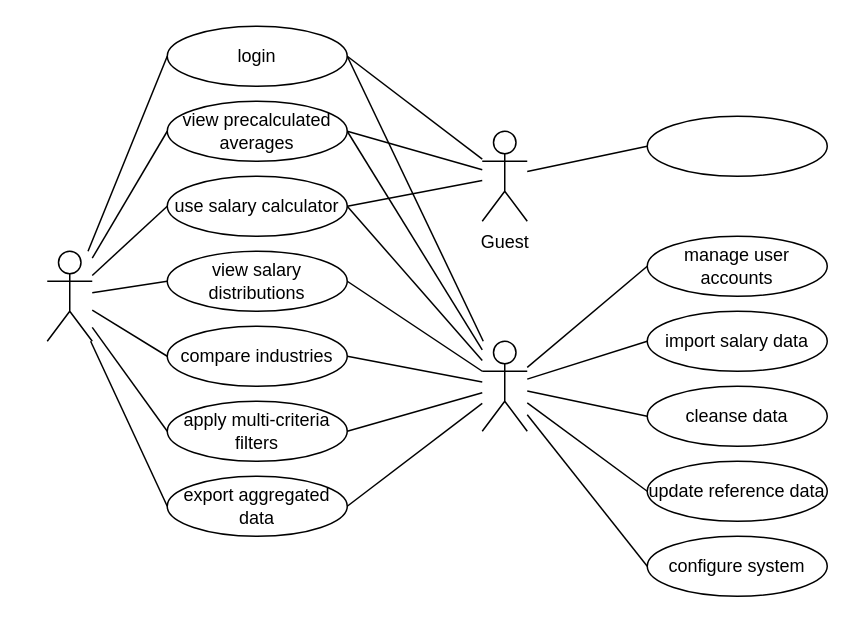
This 854x623 diagram has some shape labels left out. Each missing label, with the centre of its shape:
"Administrator" belongs at pixel 504 385.
"register" belongs at pixel 736 145.
"Registered user" belongs at pixel 69 295.
